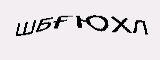Т: (81, 26, 103, 57), (63, 28, 84, 56), (34, 24, 49, 47)
Ч: (100, 23, 115, 49)
Ю: (46, 23, 63, 51)
